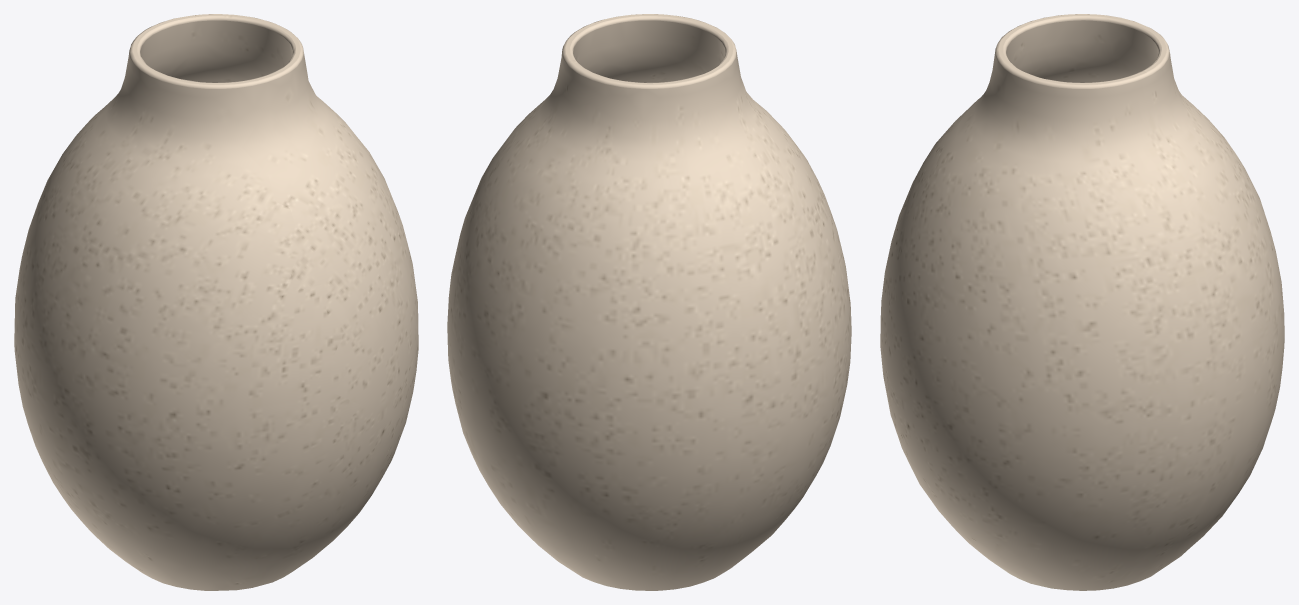
The model's file is LB-VASE-03.glb.
3 views of the same model, side by side, from view 1: azimuth 30°, elevation 25°; view 2: azimuth 150°, elevation 25°; view 3: azimuth 270°, elevation 25° (orthographic).
Visible parts, largest first — view 1: ASY_ART_90637727_S01_NV01; view 2: ASY_ART_90637727_S01_NV01; view 3: ASY_ART_90637727_S01_NV01.
Boxes of the visible parts, bbox=[...] form: ASY_ART_90637727_S01_NV01: bbox=[14, 14, 418, 590]; ASY_ART_90637727_S01_NV01: bbox=[447, 14, 851, 590]; ASY_ART_90637727_S01_NV01: bbox=[880, 14, 1284, 590].
Size of the model in its own units: 0.1834 by 0.253 by 0.1834.
Materials: 2 (2 with a texture image).
